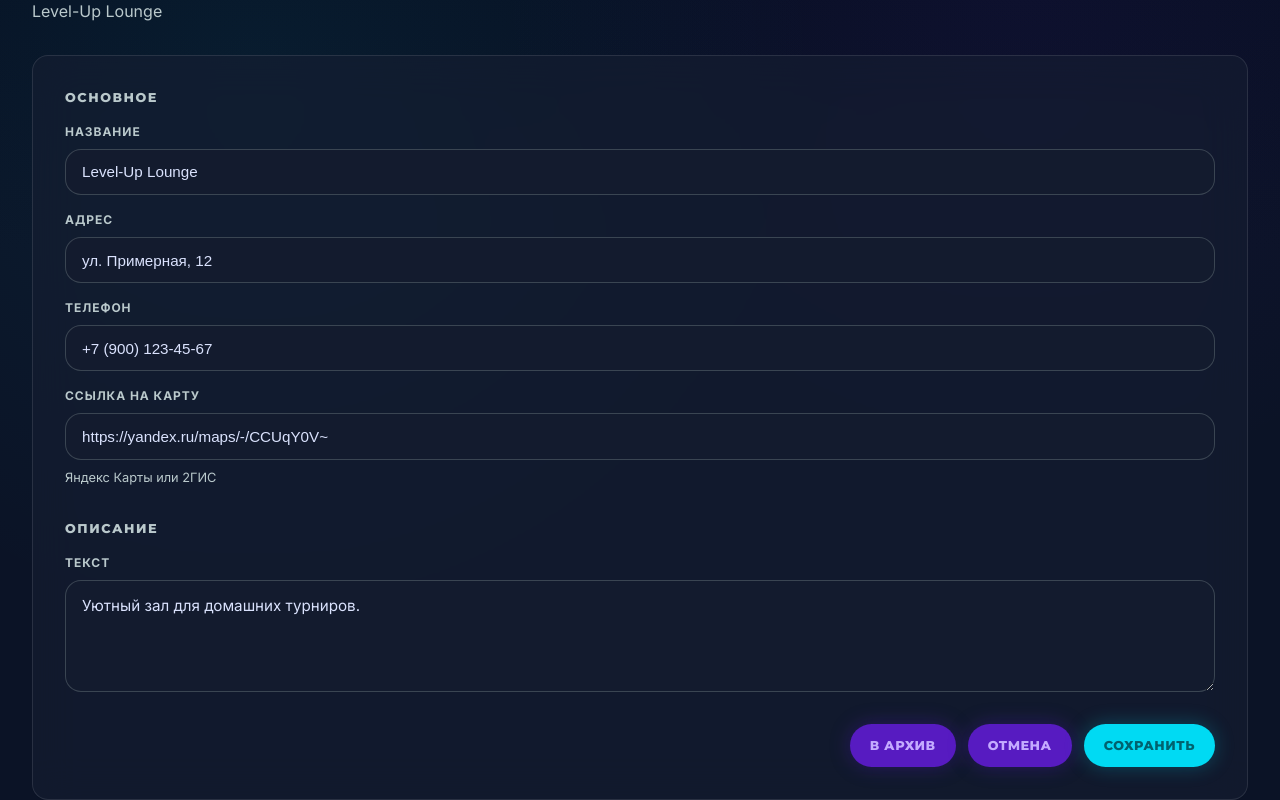
Test: EditLocationPage › archives location from edit page
(page scrolled)
Check: the field labelled "Название" is shown, box [65,149,1215,195]
Click the button "В архив" at (903, 746), box [850,724,956,767]
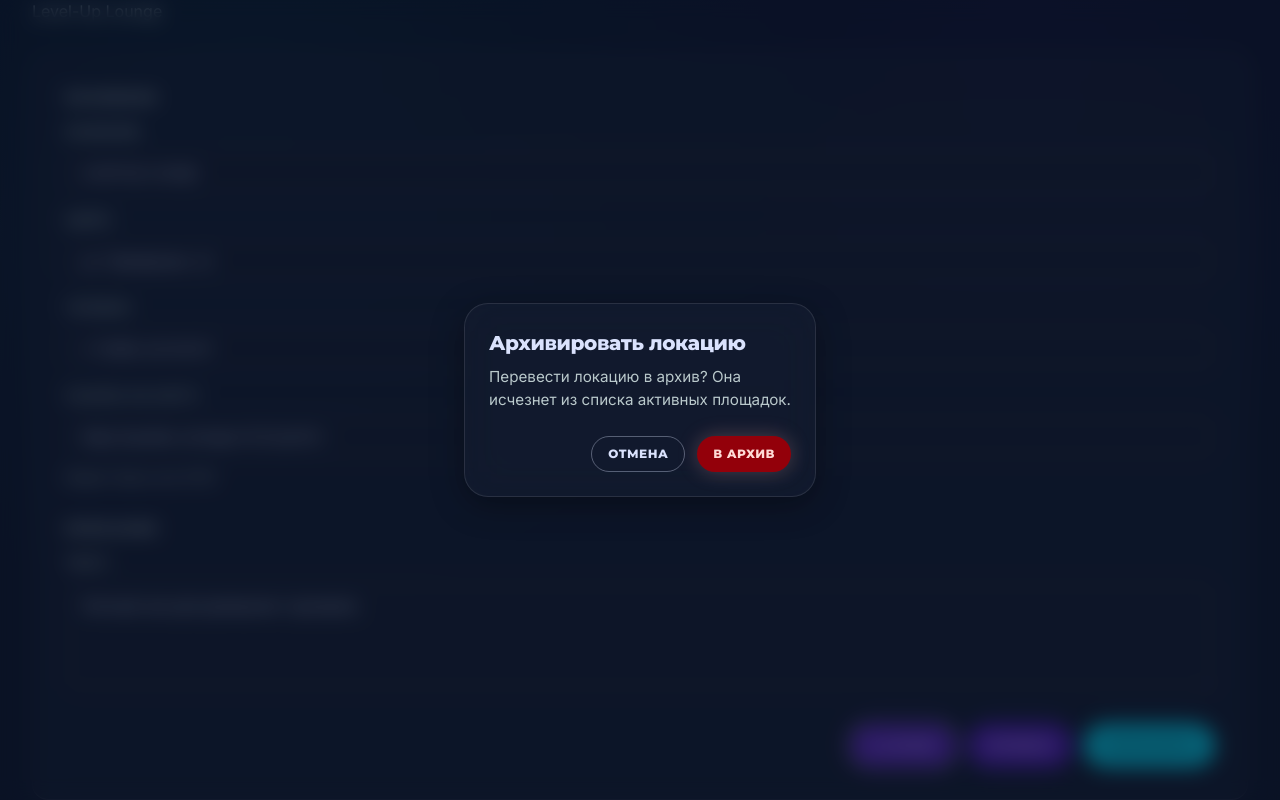
Click the button "В архив" at (744, 454), box [697,436,791,472]
(page scrolled)
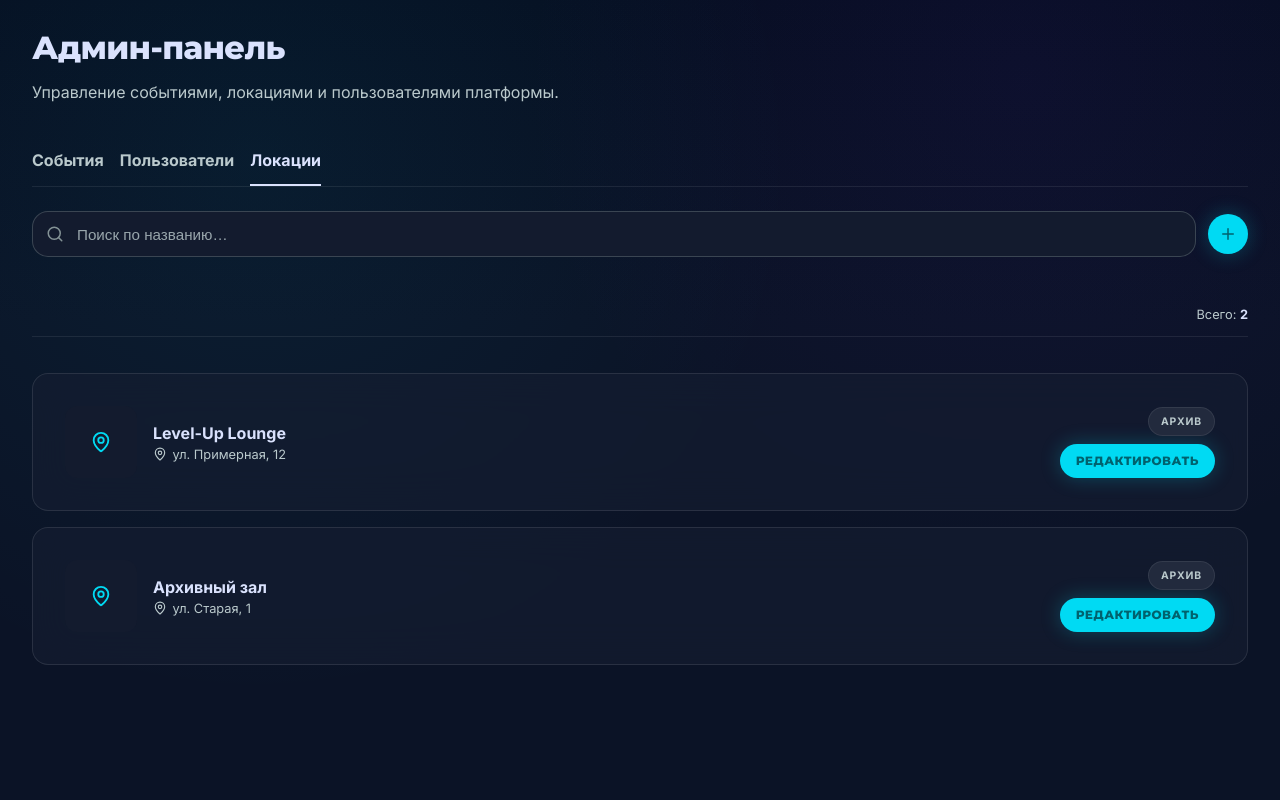
Check: the heading "Админ-панель" is shown, box [32,28,285,67]
